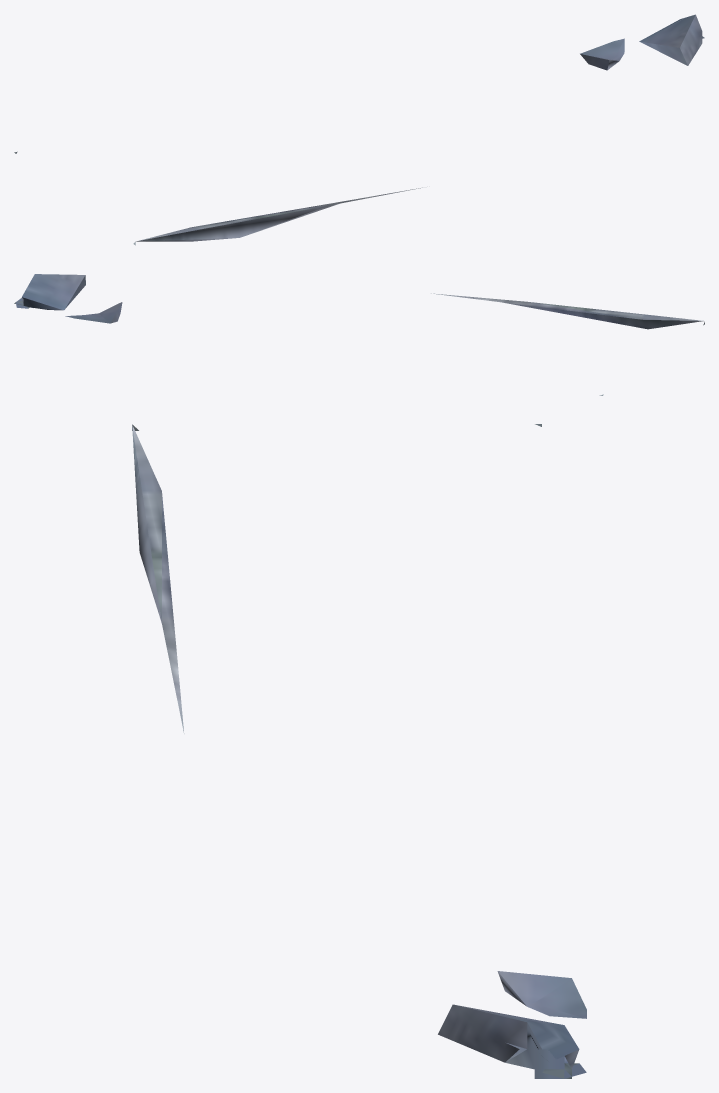
3 renders of one model, top to bottom at view 1: azimuth 30°, elevation 25°; view 2: azimuth 150°, elevation 25°; view 3: azimuth 270°, elevation 25°, orthographic. The views are drawn at different scales.
Visible parts, largest first — view 1: 30436272704361614715_0; view 2: 30436272704361614715_0; view 3: 30436272704361614715_0.
Part boxes in pixels (left/top/right/bottom): 30436272704361614715_0: left=14, top=14, right=704, bottom=245; 30436272704361614715_0: left=14, top=274, right=704, bottom=395; 30436272704361614715_0: left=132, top=424, right=586, bottom=1078.
Size of the model in its own units: 27.77 by 2 by 9.41.
Materials: 1 (1 with a texture image).
